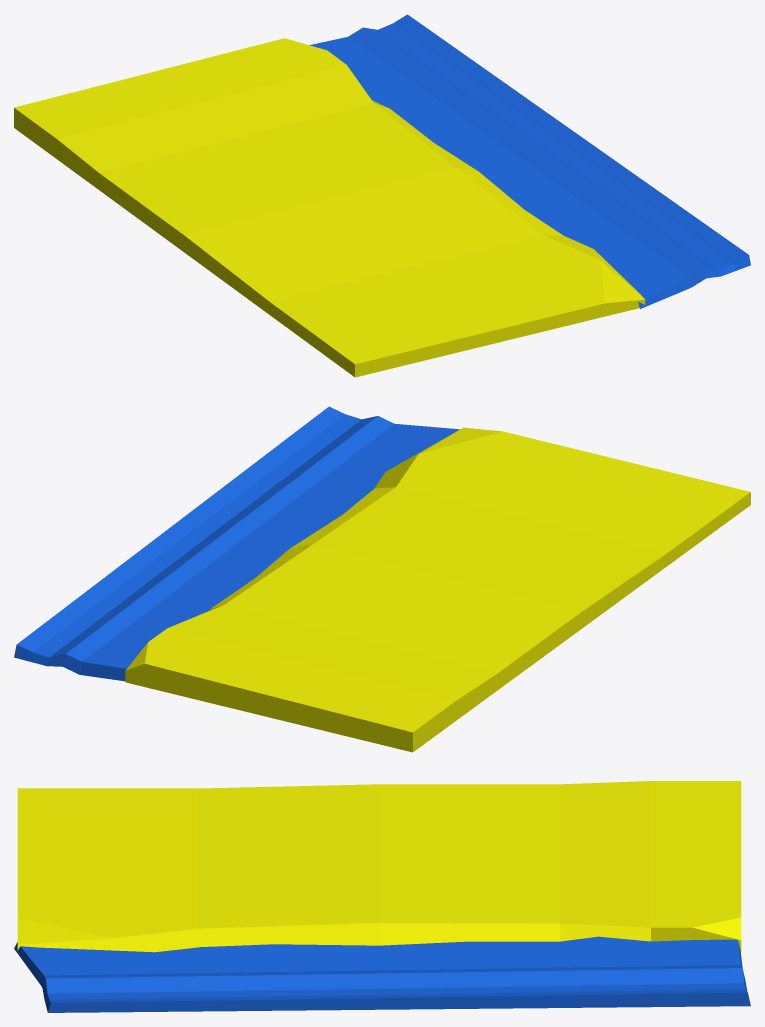
Rendered from Le beach.fbx.
3 views of the same model, one above another, from view 1: azimuth 30°, elevation 25°; view 2: azimuth 150°, elevation 25°; view 3: azimuth 270°, elevation 25° (orthographic). The views are drawn at different scales.
Parts seen in each view (by area): view 1: Cube.001; view 2: Cube.001; view 3: Cube.001.
Boxes of the visible parts, box(x1,y1,x2,y2) form: Cube.001: box(14, 14, 750, 377); Cube.001: box(14, 406, 750, 752); Cube.001: box(14, 781, 750, 1012).
Bounding box in the file's own units: 11513 × 711 × 16888.
